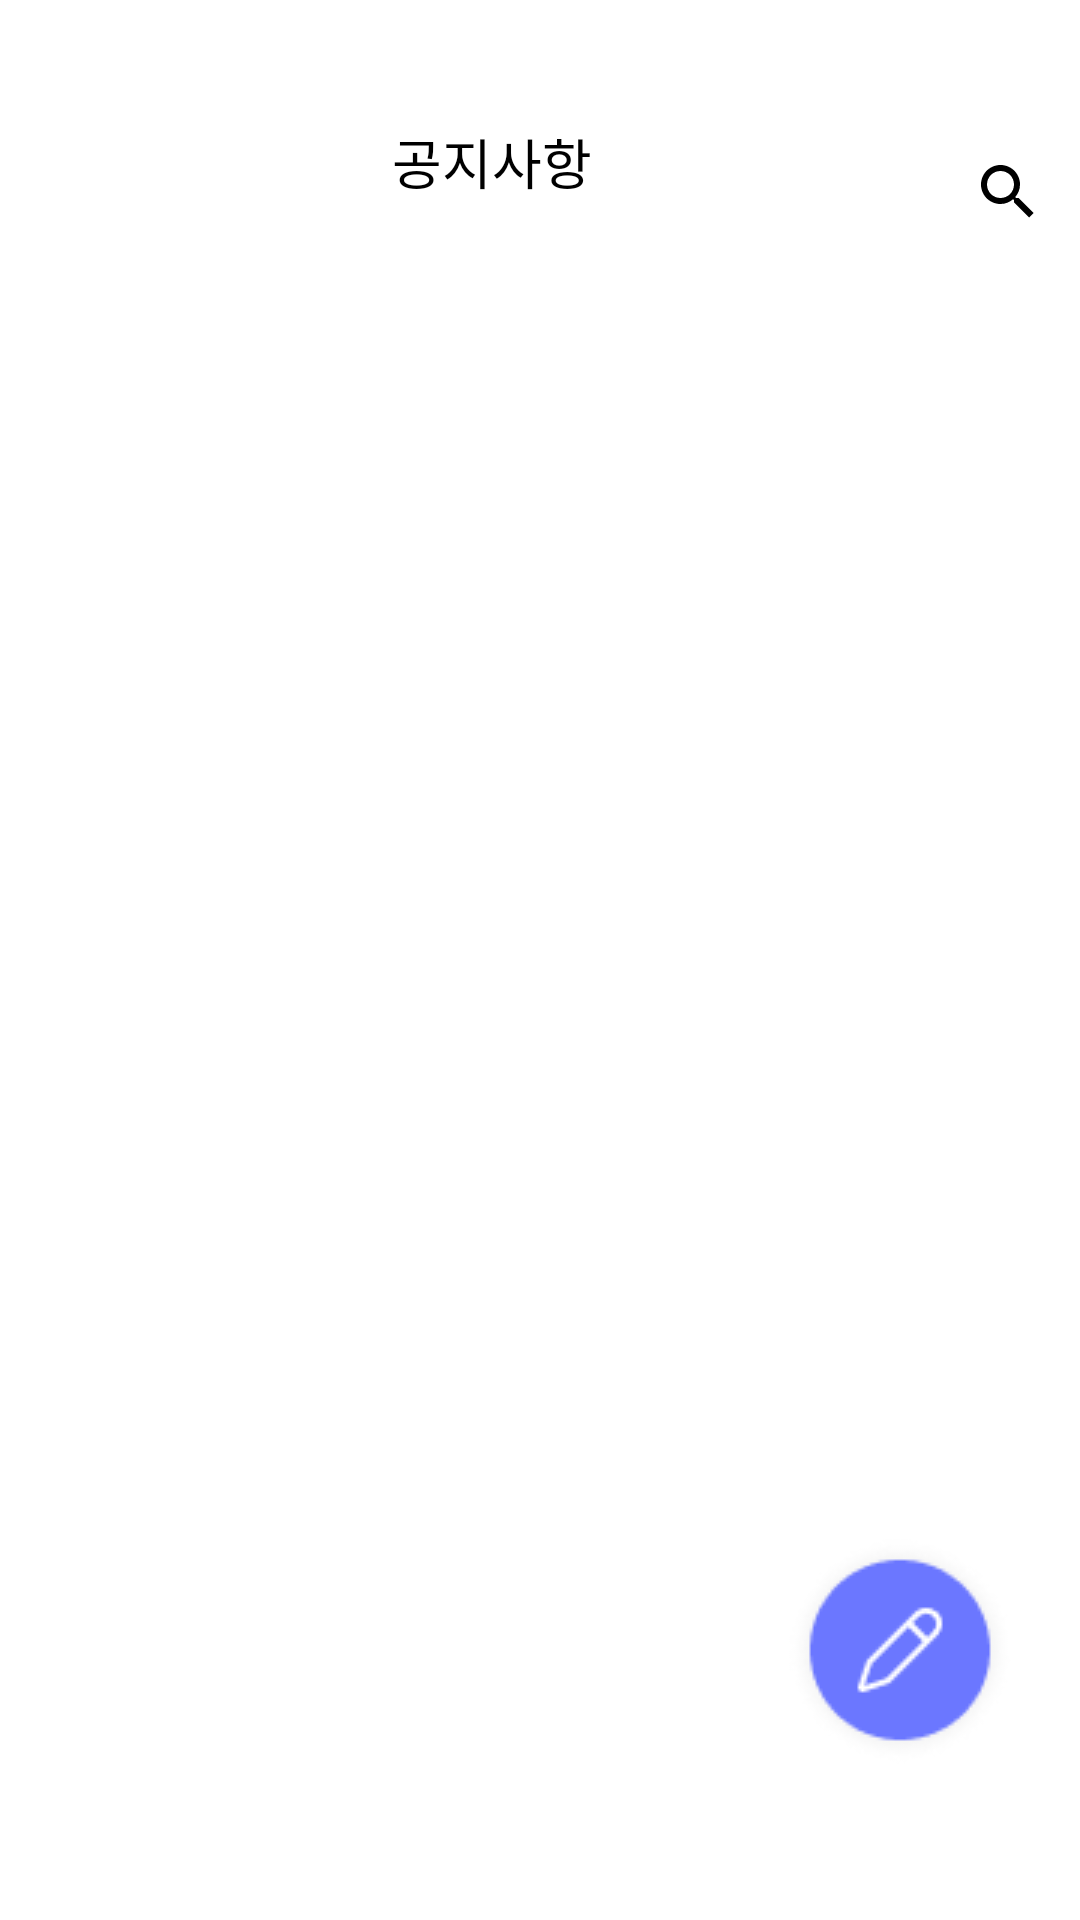

Icons on this 1080×1920 Android screen, each with the point to tap as [x,y]:
noticeeditbtn: [900,1650]
